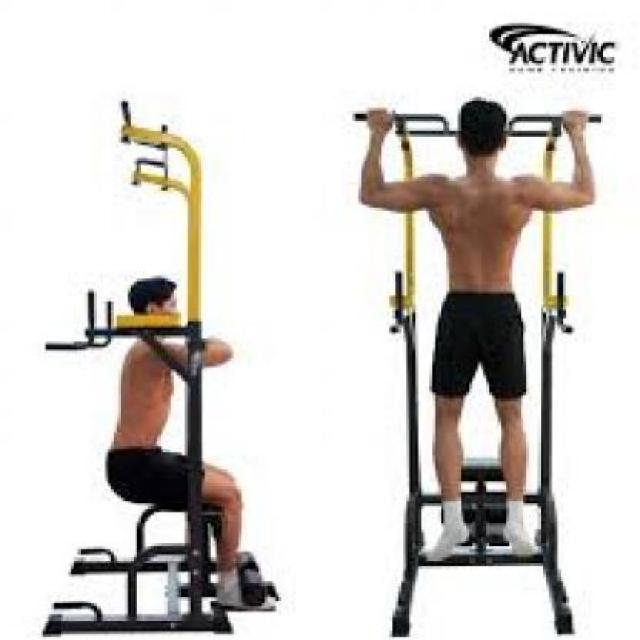chinning dipping: (352, 97, 602, 635), (40, 97, 283, 635)
